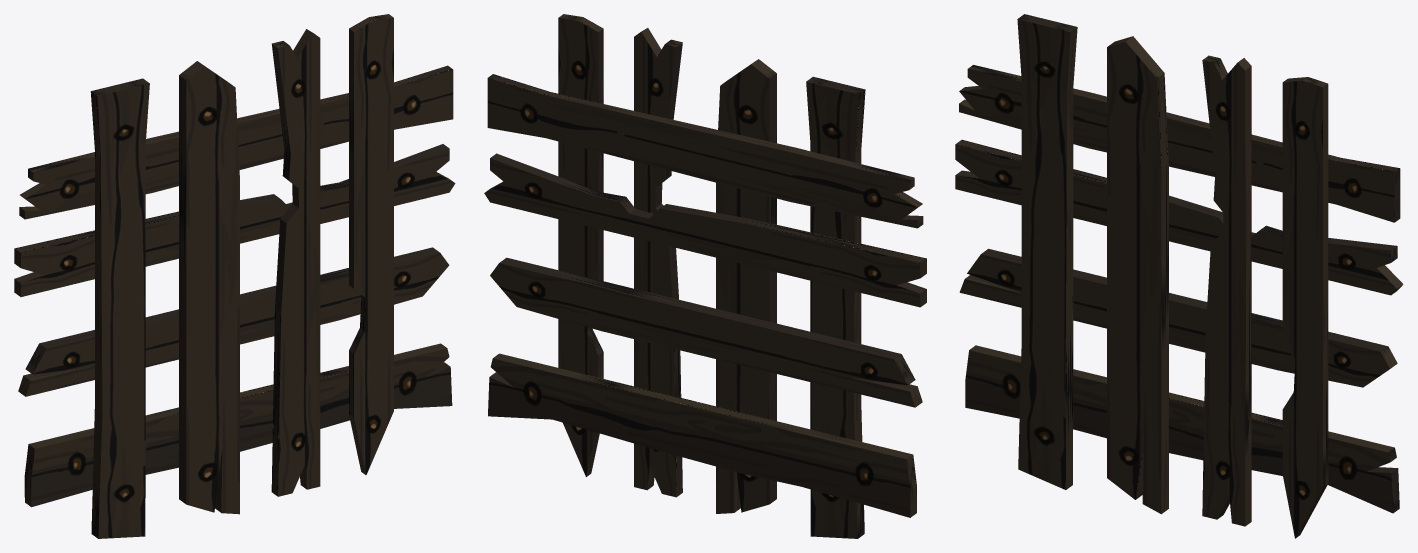
The model's file is LuoiGo.fbx.
The picture shows the model from 3 angles, left to right: view 1: azimuth 30°, elevation 25°; view 2: azimuth 150°, elevation 25°; view 3: azimuth 330°, elevation 25°; orthographic projection.
Visible parts, largest first — view 1: LuoiGo; view 2: LuoiGo; view 3: LuoiGo.
Boxes of the visible parts, x1,y1,x2,y2 form: LuoiGo: [14, 14, 455, 538]; LuoiGo: [484, 14, 926, 538]; LuoiGo: [955, 14, 1403, 538].
Size of the model in its own units: 1.42 by 0.0866 by 1.45.
Materials: 1 (1 with a texture image).
